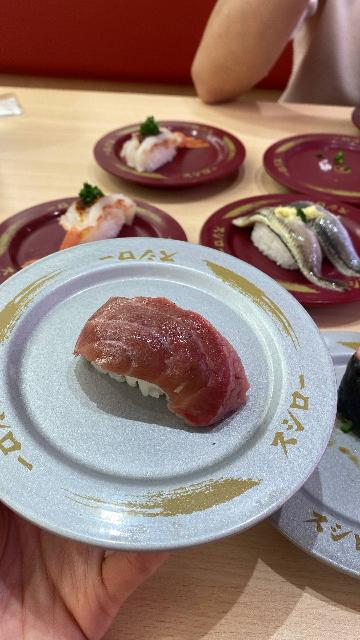janred: (0, 189, 215, 273), (187, 193, 353, 294), (100, 124, 266, 191), (264, 131, 360, 195)
janwhite: (0, 254, 320, 533), (274, 293, 360, 588)
